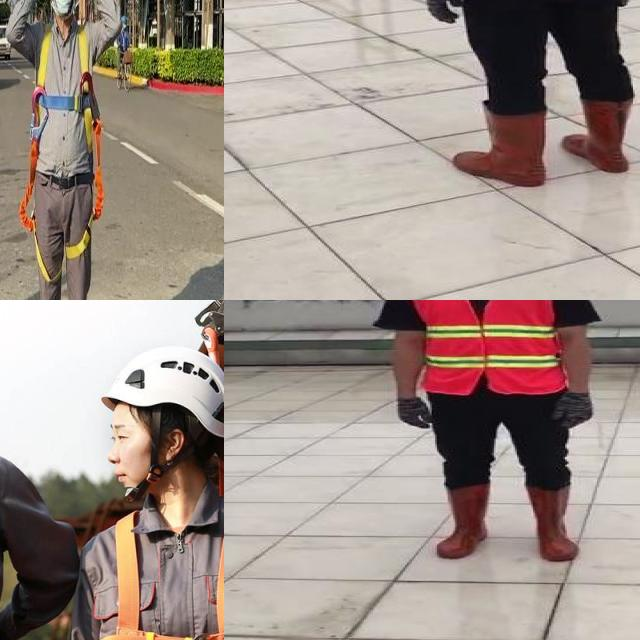Harness: (19, 26, 105, 282), (91, 501, 224, 640)
No_Ear-Protection: (159, 429, 184, 463)
boots: (450, 104, 548, 188), (560, 97, 635, 172), (434, 486, 492, 557), (528, 485, 581, 561)
hand_glove: (554, 391, 594, 429), (396, 396, 434, 430), (425, 0, 473, 24)
person: (377, 300, 608, 566), (416, 0, 640, 194)
vest: (412, 300, 566, 397)
